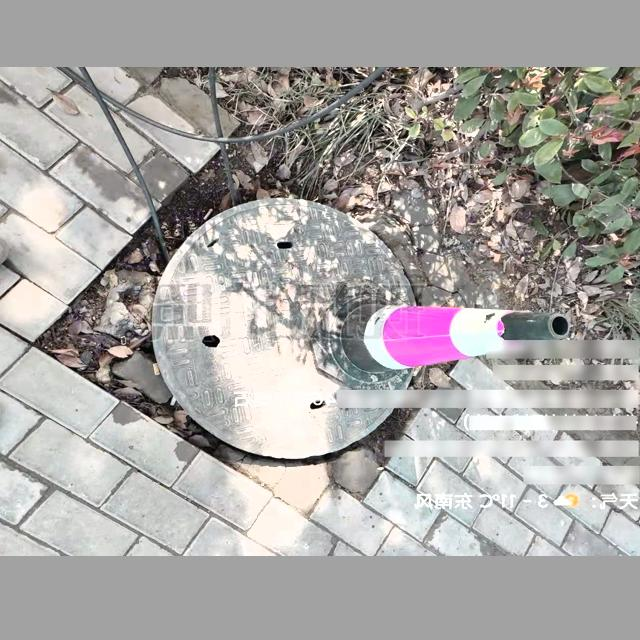broke: (150, 196, 427, 459)
